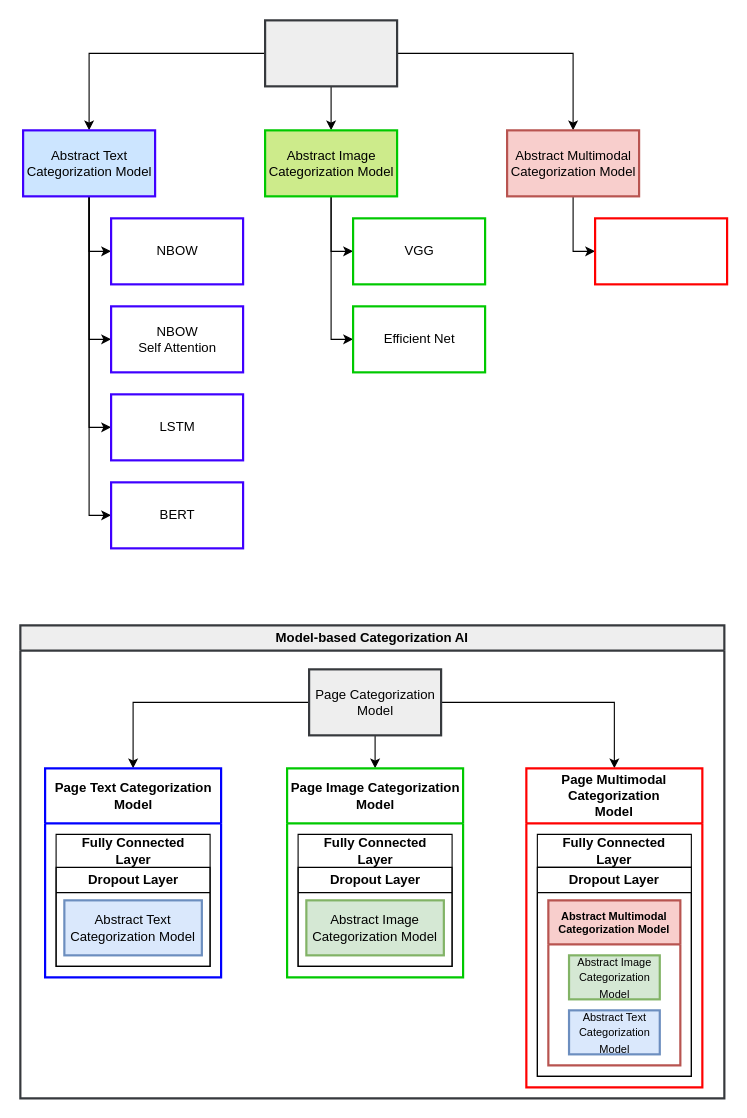
The diagram is 747 pixels wide and 1118 high, and some of its shapes have lost their labels. Here are the shapes that lost their labels. From the top down, the centre of each, then its label:
(x=330, y=53): Abstract Categorization Model
(x=660, y=251): Multimodal Concatenate
